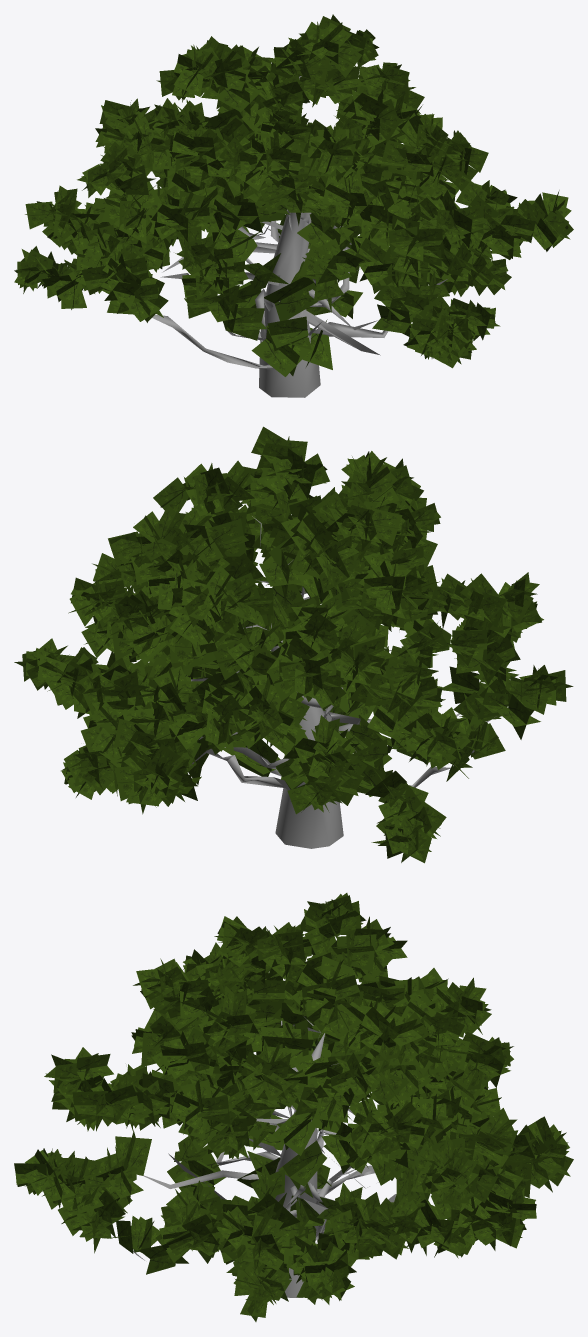
The model's file is oak6 lod1.FBX.
3 renders of one model, top to bottom at view 1: azimuth 30°, elevation 25°; view 2: azimuth 150°, elevation 25°; view 3: azimuth 270°, elevation 25°, orthographic. The views are drawn at different scales.
Visible parts, largest first — view 1: oak6_LOD1; view 2: oak6_LOD1; view 3: oak6_LOD1.
Part boxes in pixels (x1,y1,x2,y2): oak6_LOD1: (14, 14, 573, 397); oak6_LOD1: (14, 426, 573, 863); oak6_LOD1: (14, 893, 573, 1321).
Size of the model in its own units: 202608 by 151816 by 205477.
